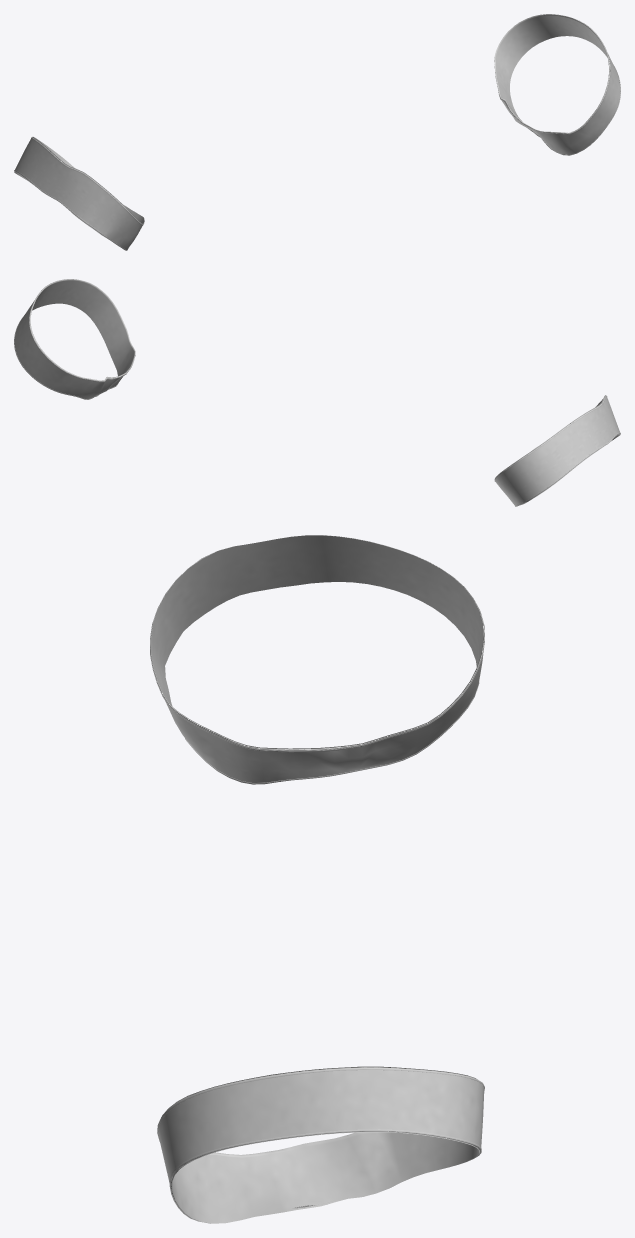
File: Jac_COP_Hands_FULL.glb
The picture shows the model from 3 angles, top to bottom: view 1: azimuth 30°, elevation 25°; view 2: azimuth 150°, elevation 25°; view 3: azimuth 270°, elevation 25°; orthographic projection. The views are drawn at different scales.
Visible parts, largest first — view 1: Jac_COP_Hands_FULL1, Rope1; view 2: Jac_COP_Hands_FULL1, Rope1; view 3: Jac_COP_Hands_FULL1, Rope1.
Part boxes in pixels (left/top/right/bottom): Jac_COP_Hands_FULL1: left=14, top=14, right=620, bottom=249; Rope1: left=14, top=14, right=620, bottom=250; Jac_COP_Hands_FULL1: left=14, top=279, right=620, bottom=506; Rope1: left=14, top=279, right=620, bottom=506; Jac_COP_Hands_FULL1: left=150, top=535, right=484, bottom=1223; Rope1: left=150, top=535, right=484, bottom=1223.
Bounding box in the file's own units: 1.2 × 0.2145 × 0.3087.
2 materials, 2 textured.
